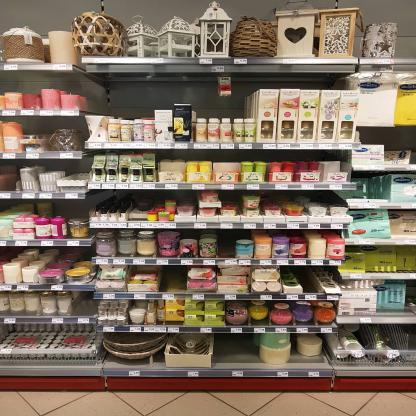Void: (99, 75, 149, 115), (198, 80, 249, 119), (218, 335, 256, 361), (161, 268, 186, 293), (220, 234, 232, 260), (304, 269, 316, 294)
